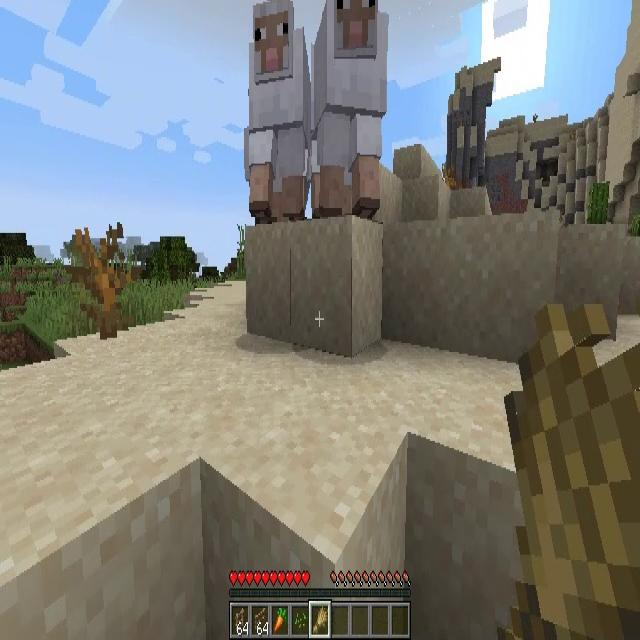sheep: (317, 0, 387, 213), (249, 1, 311, 217)
